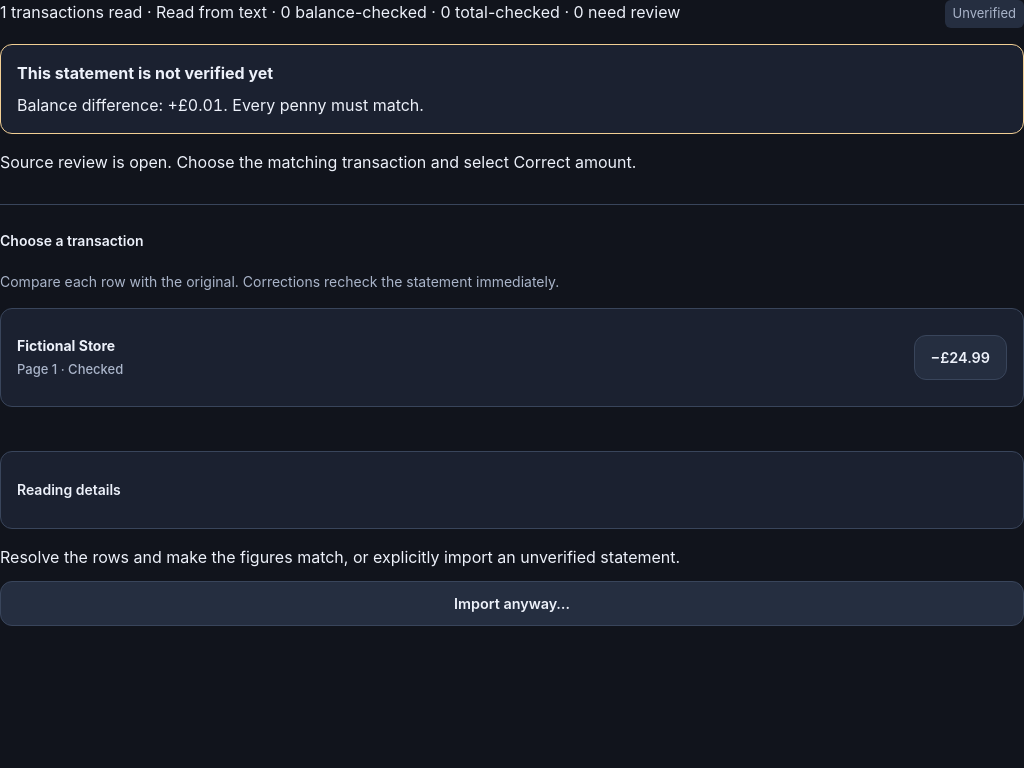
Scenario: generic PDF evidence review › lets the user choose a verified source row when a direct correction cannot be matched uniquely
Expected: the heading "Choose a transaction" is shown, [0,232,144,249]
Click the text "Fictional Store" at (70, 345), box [17,334,123,356]
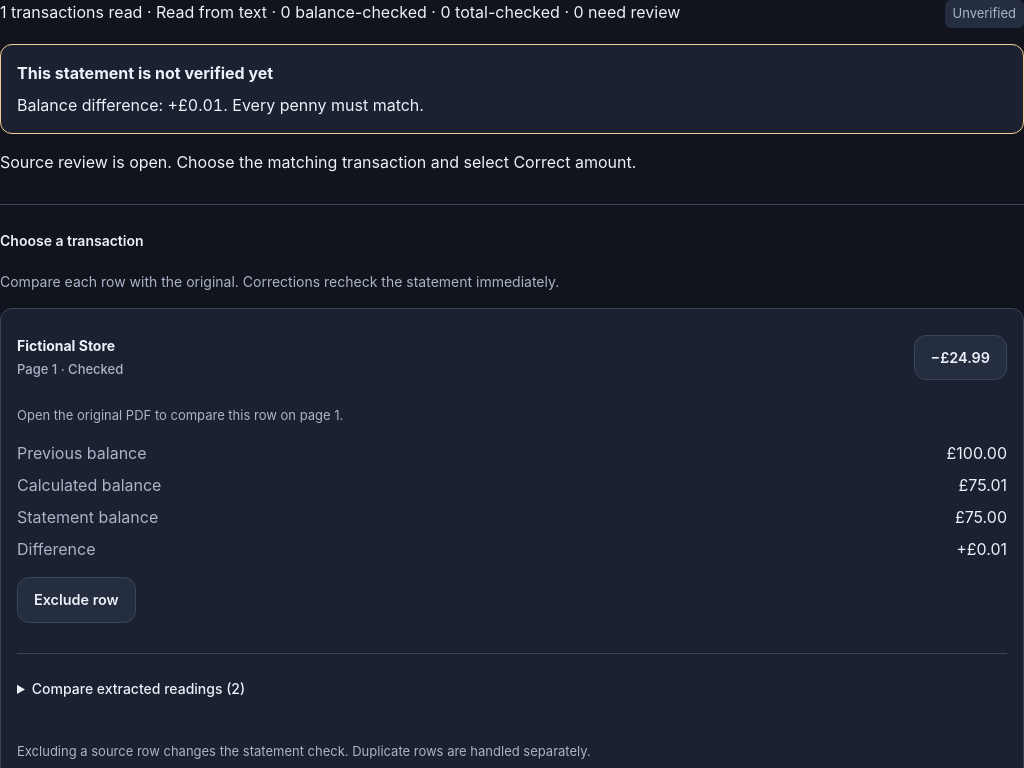
Click the button named "Correct amount for " at (960, 357), box [914,334,1007,380]
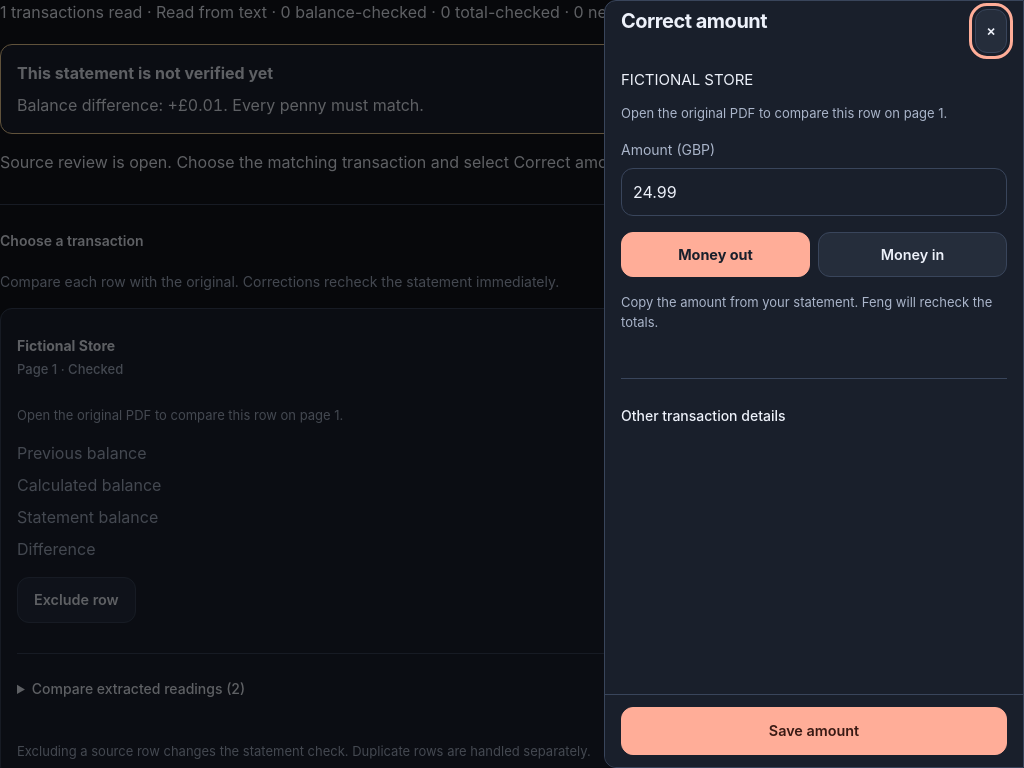
Expected: the dialog "Correct amount" is shown, [604,0,1023,767]
